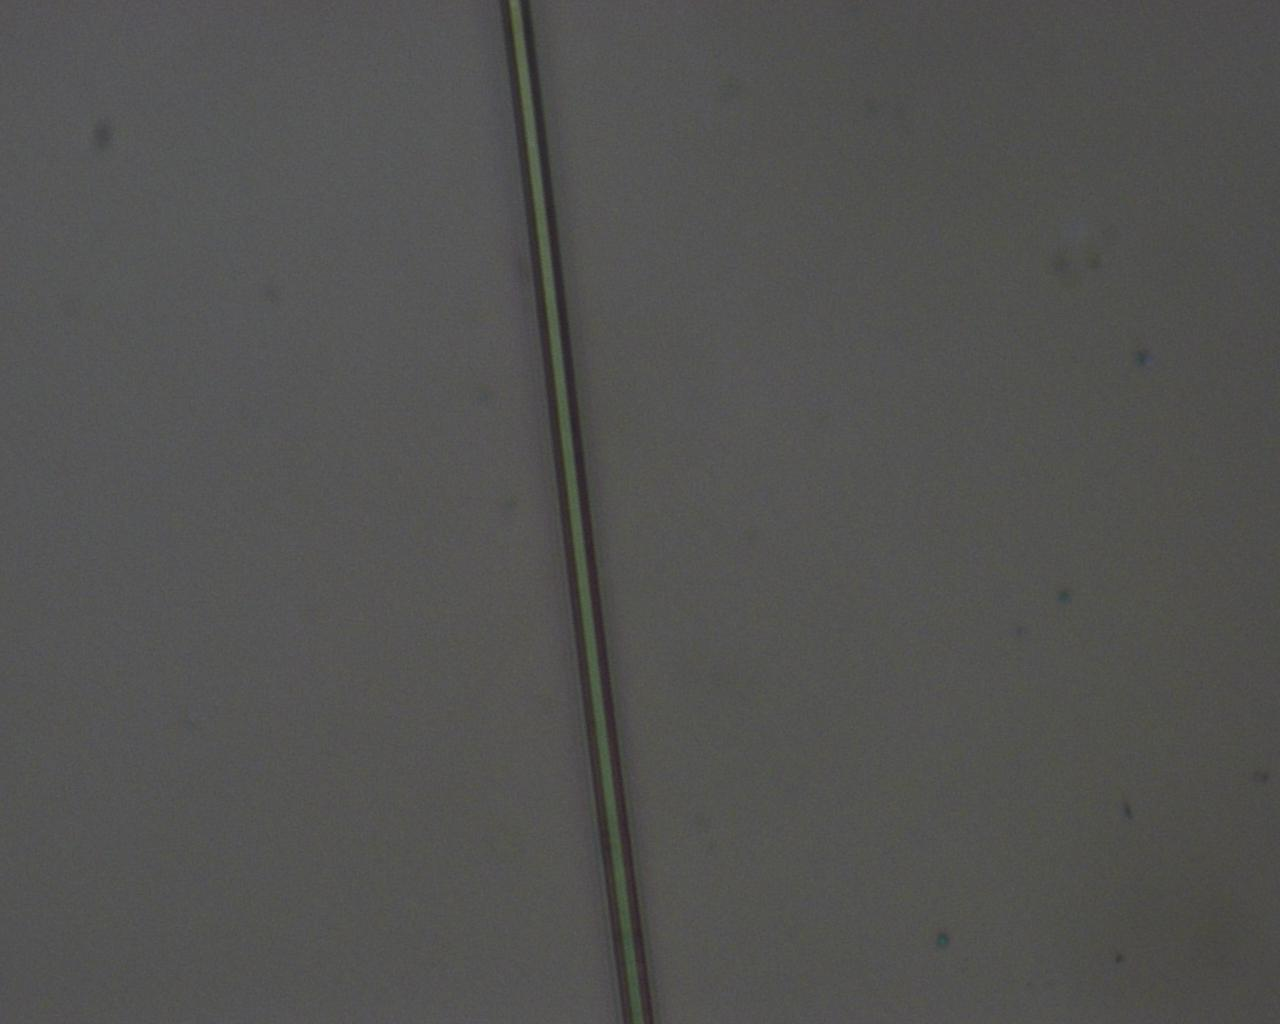fiber: (498, 0, 654, 1024)
